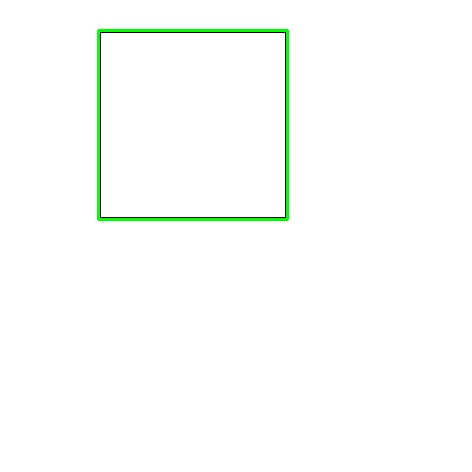line_segment: (97, 29, 289, 221)
